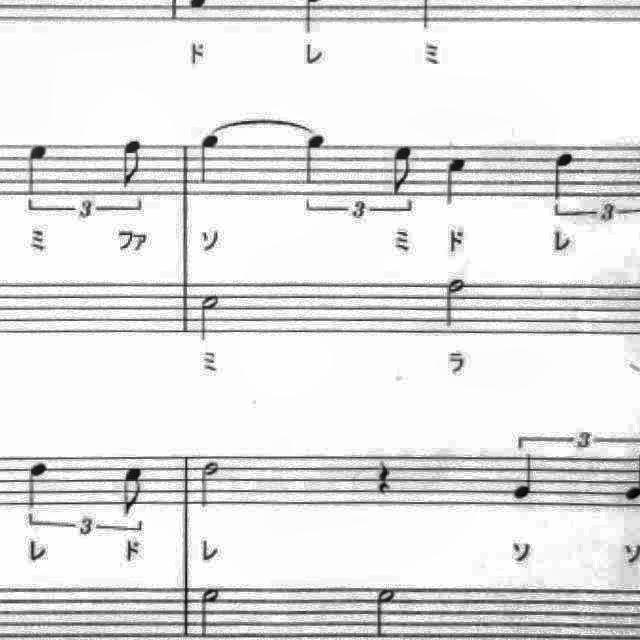Eighth-note: (387, 138, 425, 198), (115, 134, 153, 194), (116, 460, 152, 520)
Half-note: (364, 579, 404, 639), (192, 581, 230, 639), (440, 274, 472, 334), (195, 289, 228, 347), (194, 458, 226, 514)
Quarter-note: (546, 148, 582, 216), (18, 140, 56, 204), (438, 152, 474, 212), (20, 456, 54, 516), (298, 130, 332, 190), (193, 130, 227, 190), (508, 450, 544, 506)
Quarter-rest: (371, 453, 402, 501)
